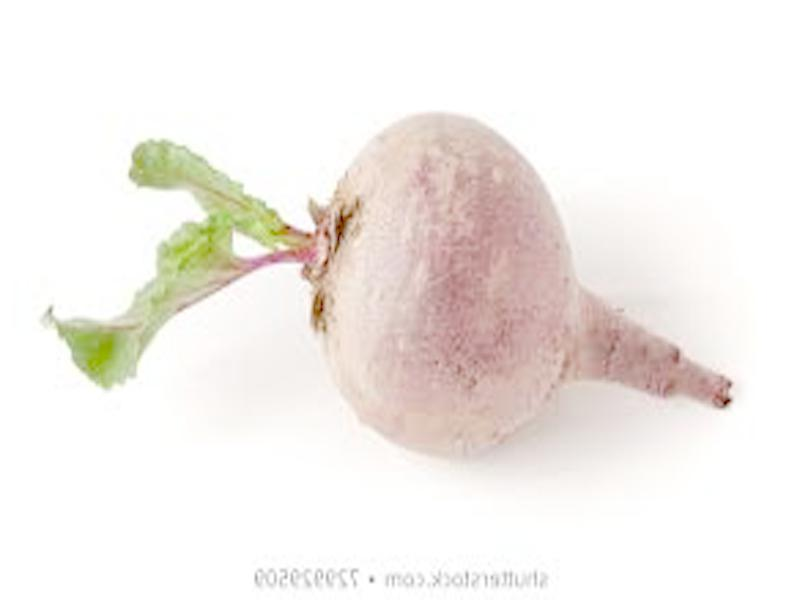Beet: (40, 114, 728, 454)
